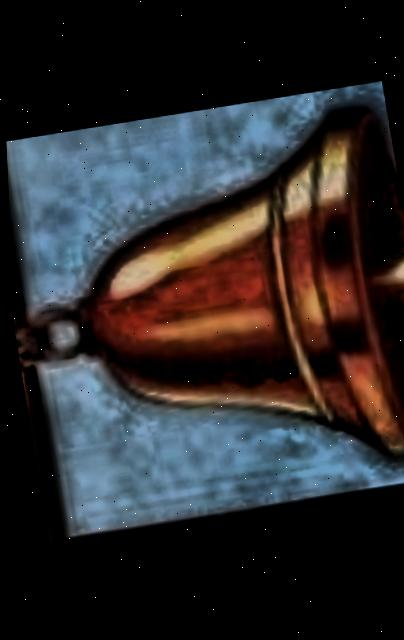La Campana: (3, 83, 404, 542)
